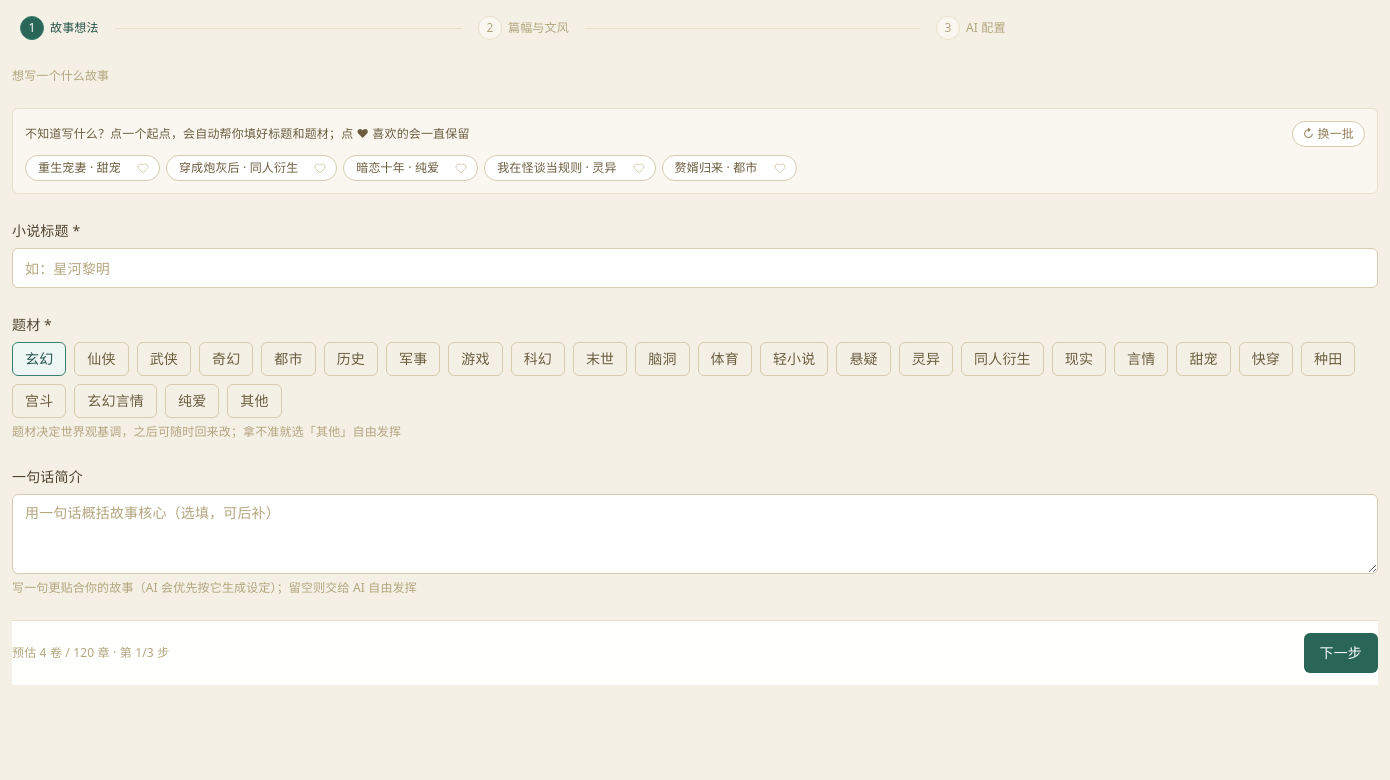
ProjectForm（三步向导） › 第 1 步渲染故事想法字段；前进到第 2 步可见文风预设选项
expect the field labelled "目标章节数 *" is not shown: met
In the field with placeholder "如：星河黎明": (695, 268) x1=12 y1=248 x2=1378 y2=288, type "星河黎明"
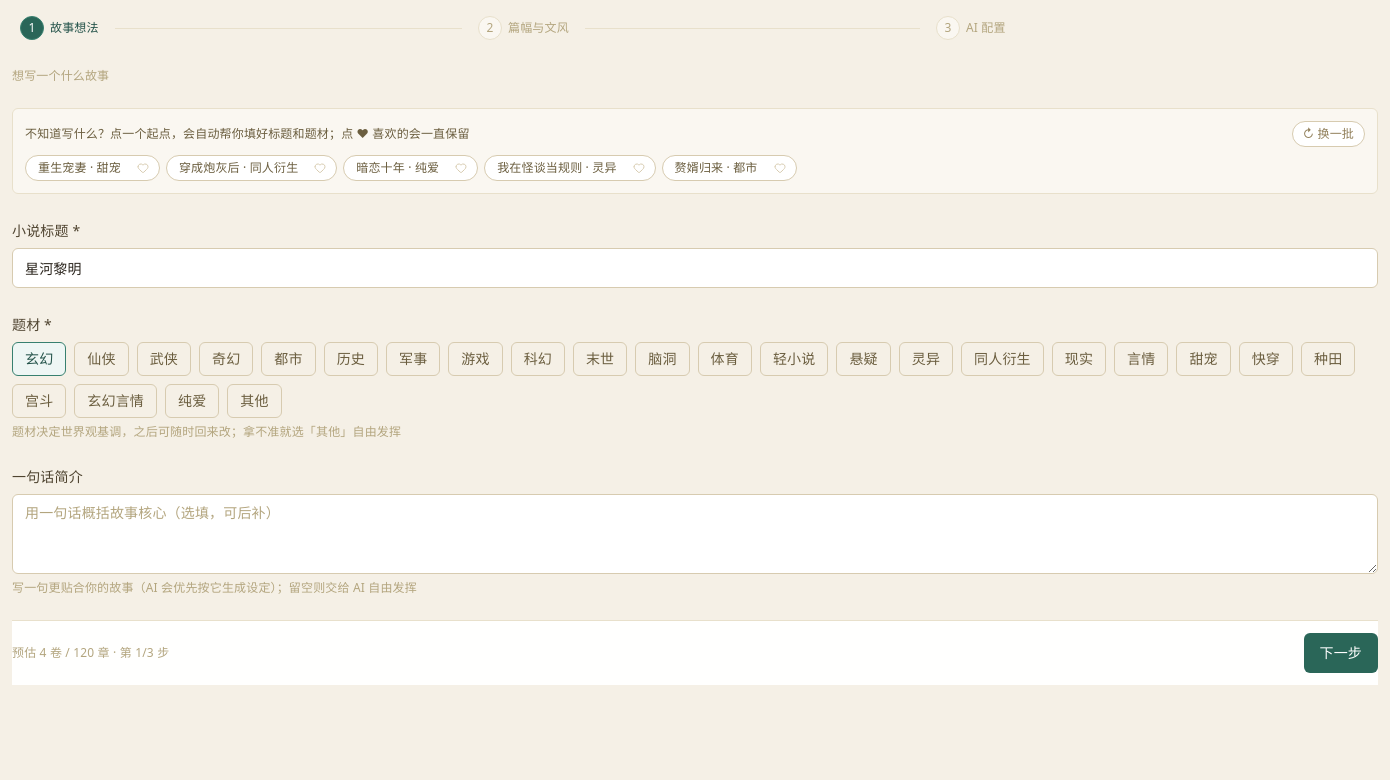
In the text box labelled "一句话简介": (695, 534) x1=12 y1=494 x2=1378 y2=574, type "一个关于星辰的故事"
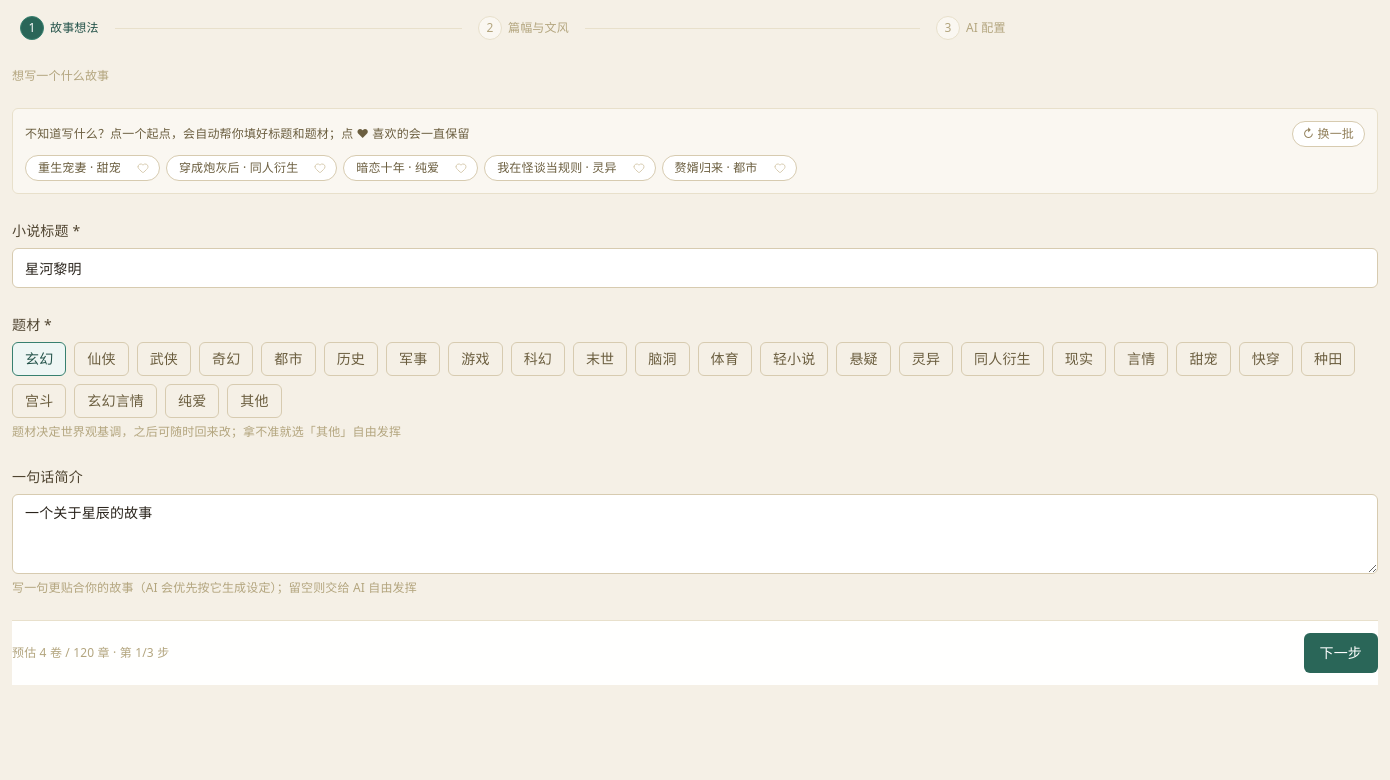
Click the button "下一步": (1341, 653) x1=1304 y1=633 x2=1378 y2=673
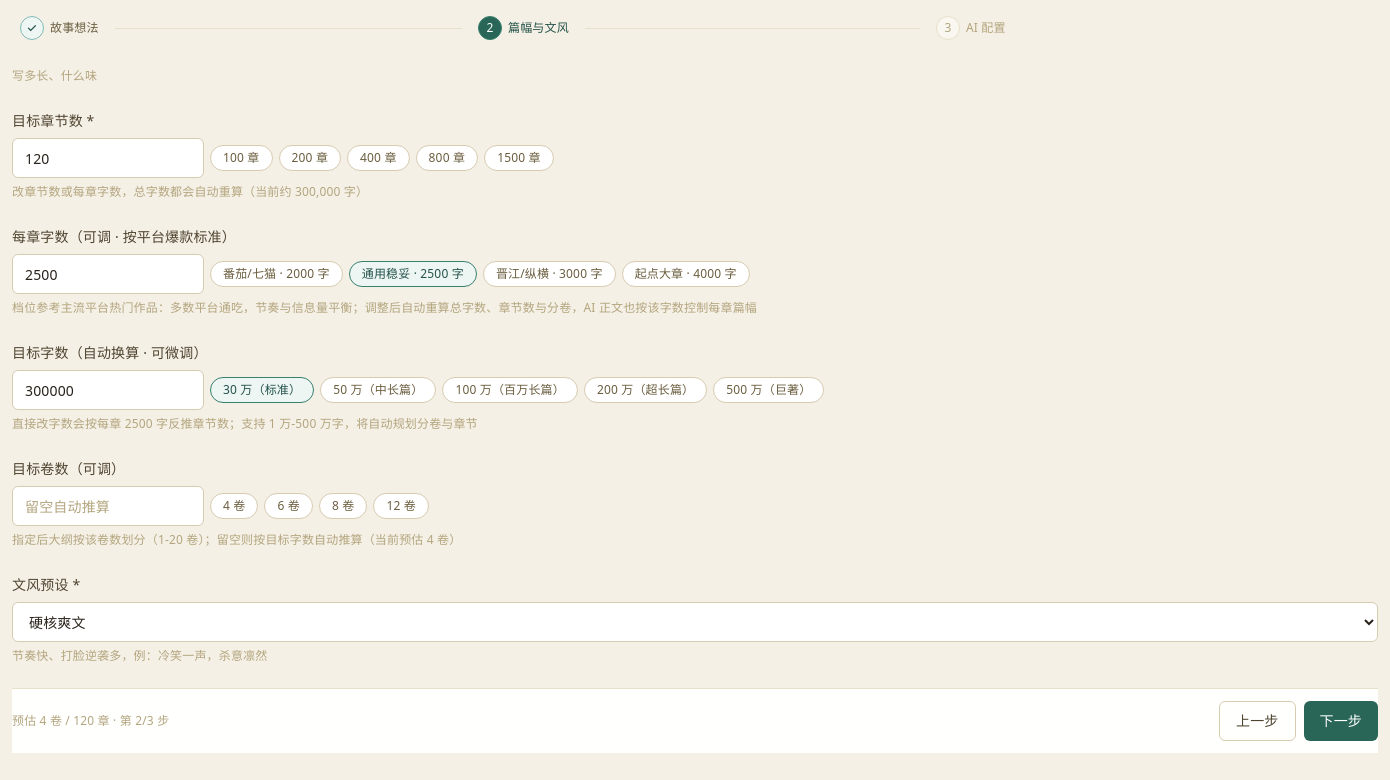
expect the number field labelled "目标章节数 *" is shown: met, box x1=12 y1=138 x2=204 y2=178
